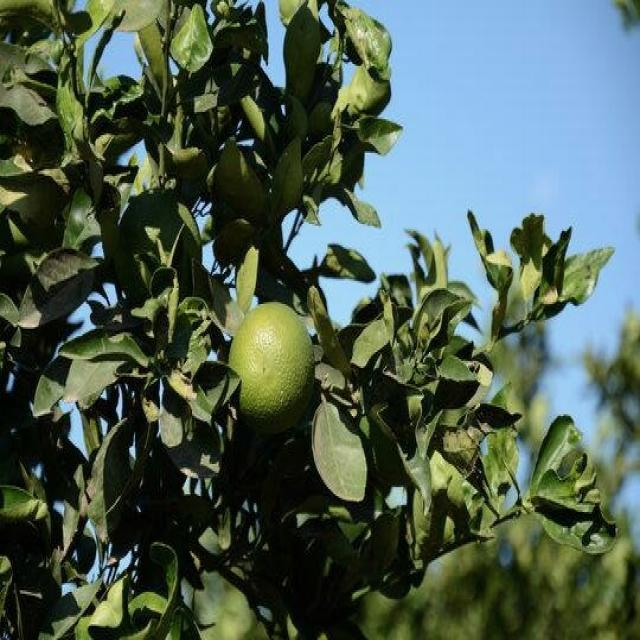Jeruk Belum Matang: (228, 302, 316, 436)
